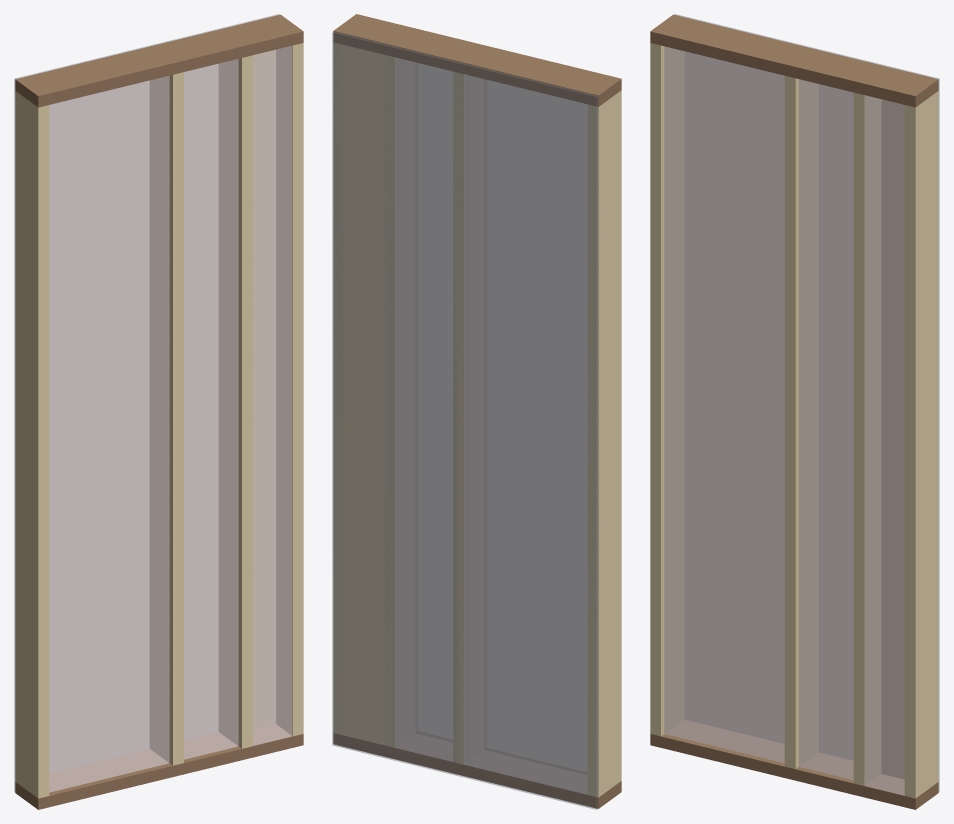
3 renders of one model, left to right at view 1: azimuth 30°, elevation 25°; view 2: azimuth 150°, elevation 25°; view 3: azimuth 330°, elevation 25°, orthographic.
Parts seen in each view (by area): view 1: EX6 FF; view 2: EX6 FF; view 3: EX6 FF.
Boxes of the visible parts, <box> form: EX6 FF: <box>14,14,303,809</box>; EX6 FF: <box>332,14,621,809</box>; EX6 FF: <box>650,14,939,809</box>.
Size of the model in its own units: 0.927 by 2.38 by 0.149.
